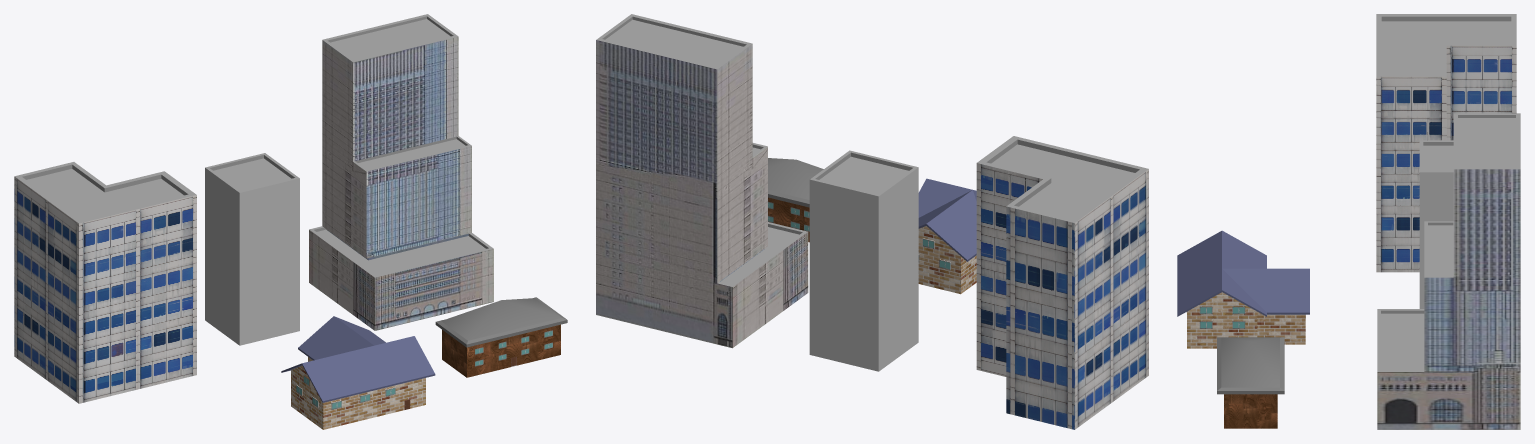
File: Building 1.fbx
The picture shows the model from 3 angles, left to right: view 1: azimuth 30°, elevation 25°; view 2: azimuth 150°, elevation 25°; view 3: azimuth 270°, elevation 25°; orthographic projection. The views are drawn at different scales.
Visible parts, largest first — view 1: pCube2, pCube3, pCube1, polySurface22, pCube32; view 2: pCube2, pCube3, pCube1, polySurface22, pCube32; view 3: pCube2, pCube3, polySurface22, pCube32, pCube1.
Boxes of the visible parts, x1,y1,x2,y2 form: pCube2: (309,14,493,330); pCube3: (14,162,196,403); pCube1: (205,153,299,345); polySurface22: (281,316,435,429); pCube32: (435,297,567,377); pCube2: (596,14,808,348); pCube3: (976,136,1148,429); pCube1: (809,150,918,371); polySurface22: (918,178,976,294); pCube32: (768,158,823,242); pCube2: (1377,113,1520,429); pCube3: (1376,14,1516,272); polySurface22: (1177,230,1309,348); pCube32: (1217,337,1284,428); pCube1: (1419,140,1453,308).
Size of the model in its own units: 44.08 by 24.41 by 29.04.
